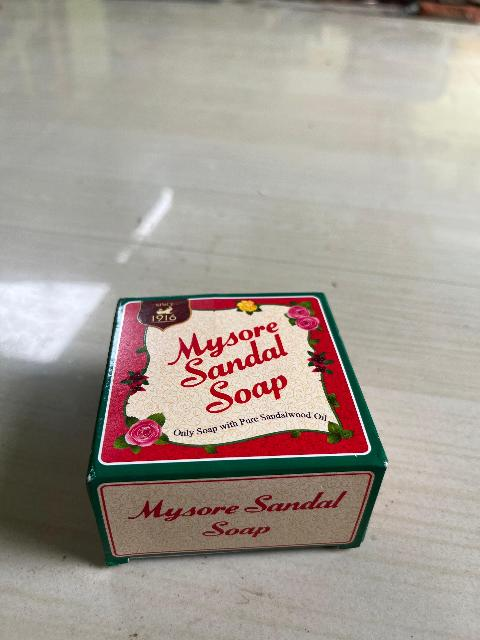mysore sandal soap: (94, 291, 386, 554)
